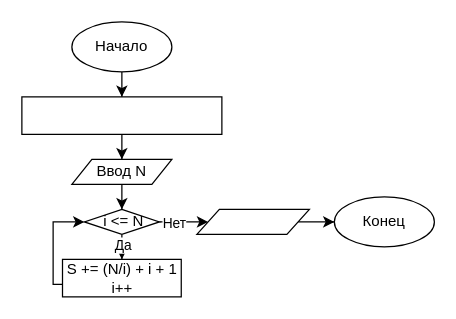
Some shapes in this 456 by 319 pixel diagram are drawn without their labels. Here are the shapes that lost their labels. From the top down, the centre of each, then its label:
At pixel 121 115: "Натуральное число N Вещественное число S = 0".
At pixel 252 221: "Вывод S".
